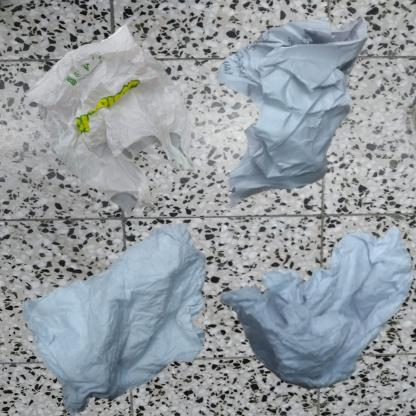bolsa: (10, 10, 215, 226)
papel: (10, 213, 278, 416), (213, 213, 416, 398), (213, 10, 374, 209)
